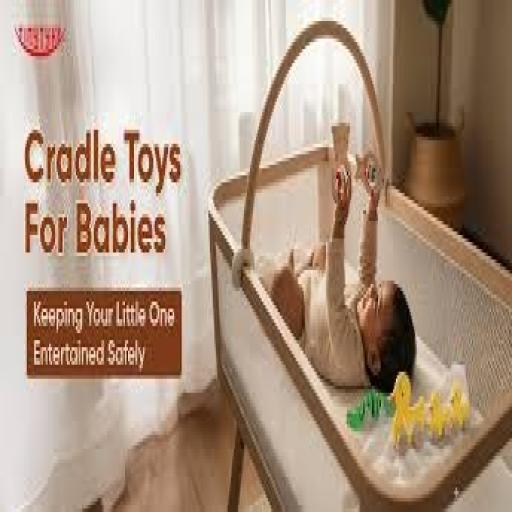baby: (259, 172, 416, 392)
crib: (207, 141, 512, 512)
